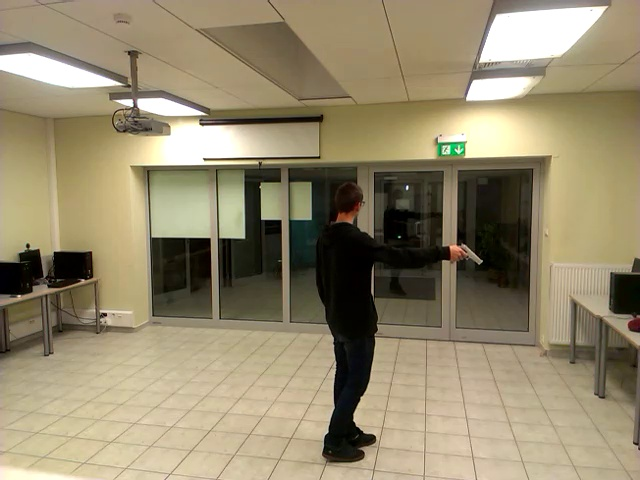gun: (449, 231, 504, 282)
